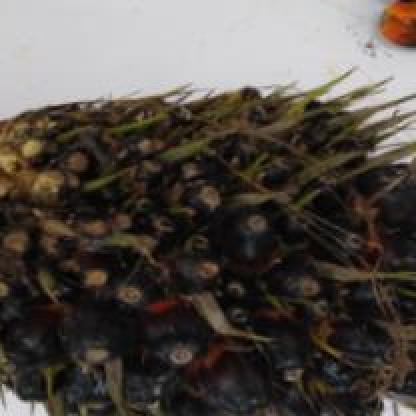Unripe: (0, 32, 416, 416)
